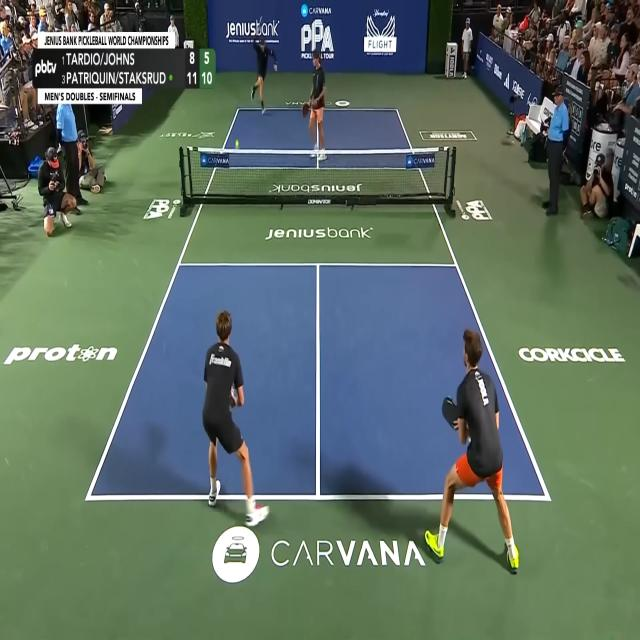ball: (235, 138, 239, 146)
